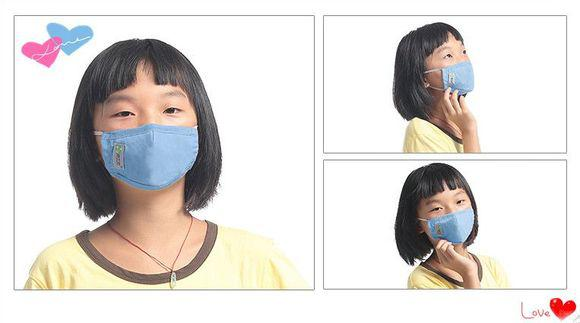OK: (106, 92, 199, 185), (424, 191, 475, 246), (431, 46, 477, 96)
